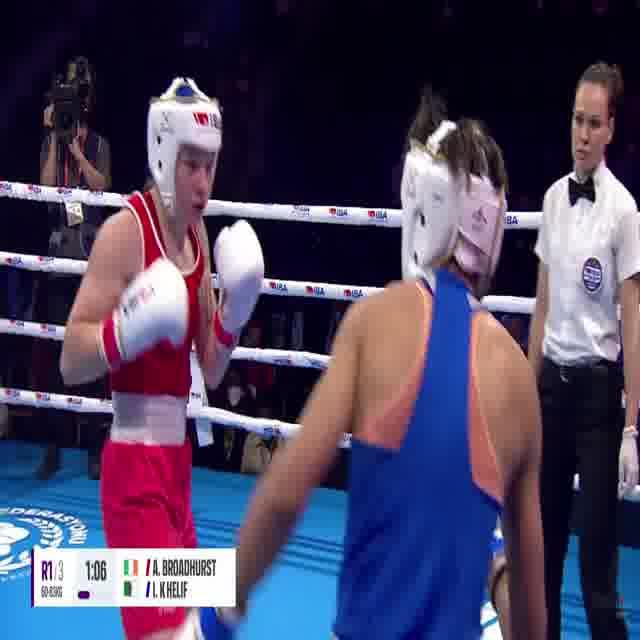blue-player: (194, 87, 550, 640)
red-player: (56, 74, 268, 640)
referee: (527, 60, 640, 640)
